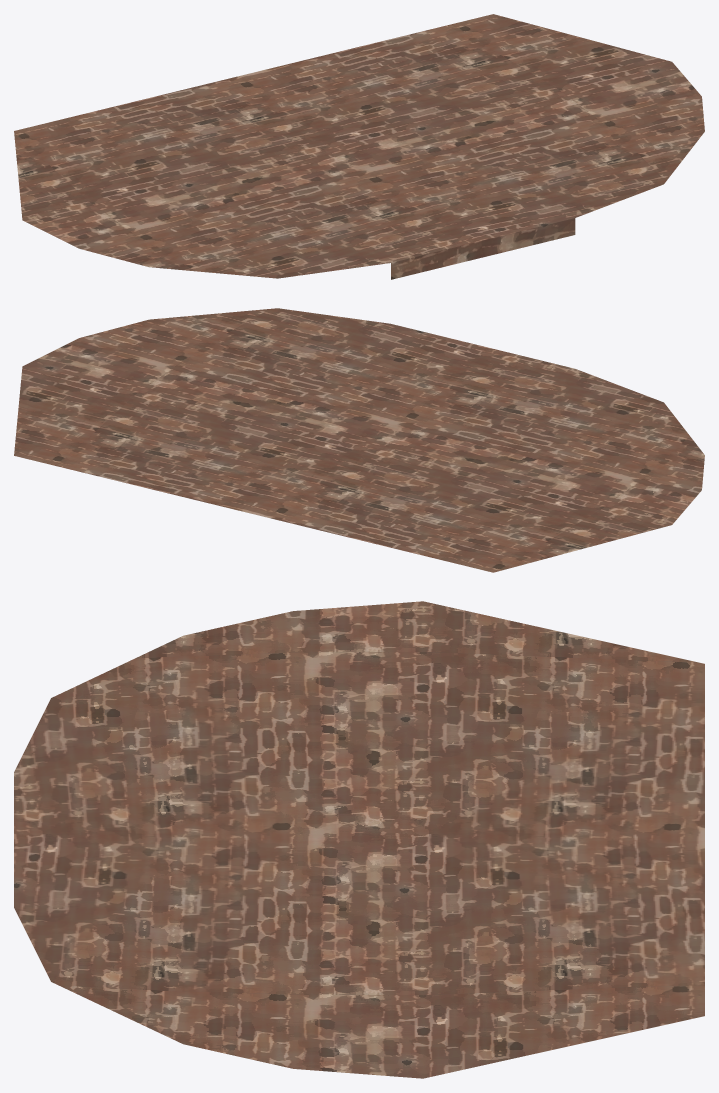
The model's file is tile_towerground.fbx.
The picture shows the model from 3 angles, top to bottom: view 1: azimuth 30°, elevation 25°; view 2: azimuth 150°, elevation 25°; view 3: azimuth 270°, elevation 25°; orthographic projection. The views are drawn at different scales.
Visible parts, largest first — view 1: towerground; view 2: towerground; view 3: towerground.
Part boxes in pixels (x1=…): towerground: x1=14, y1=14, x2=704, y2=279; towerground: x1=14, y1=308, x2=704, y2=572; towerground: x1=14, y1=601, x2=704, y2=1078.
Bounding box in the file's own units: 2816 × 1723 × 70.
